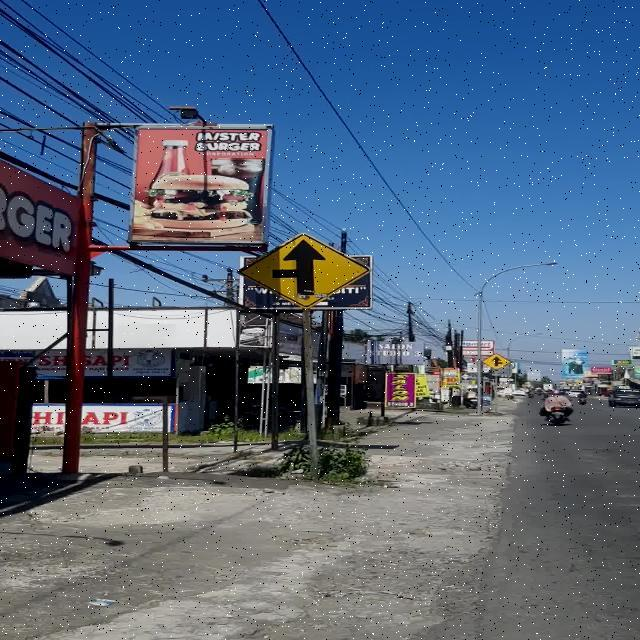Persimpangan 3 Prioritas Kiri: (236, 233, 371, 309)
